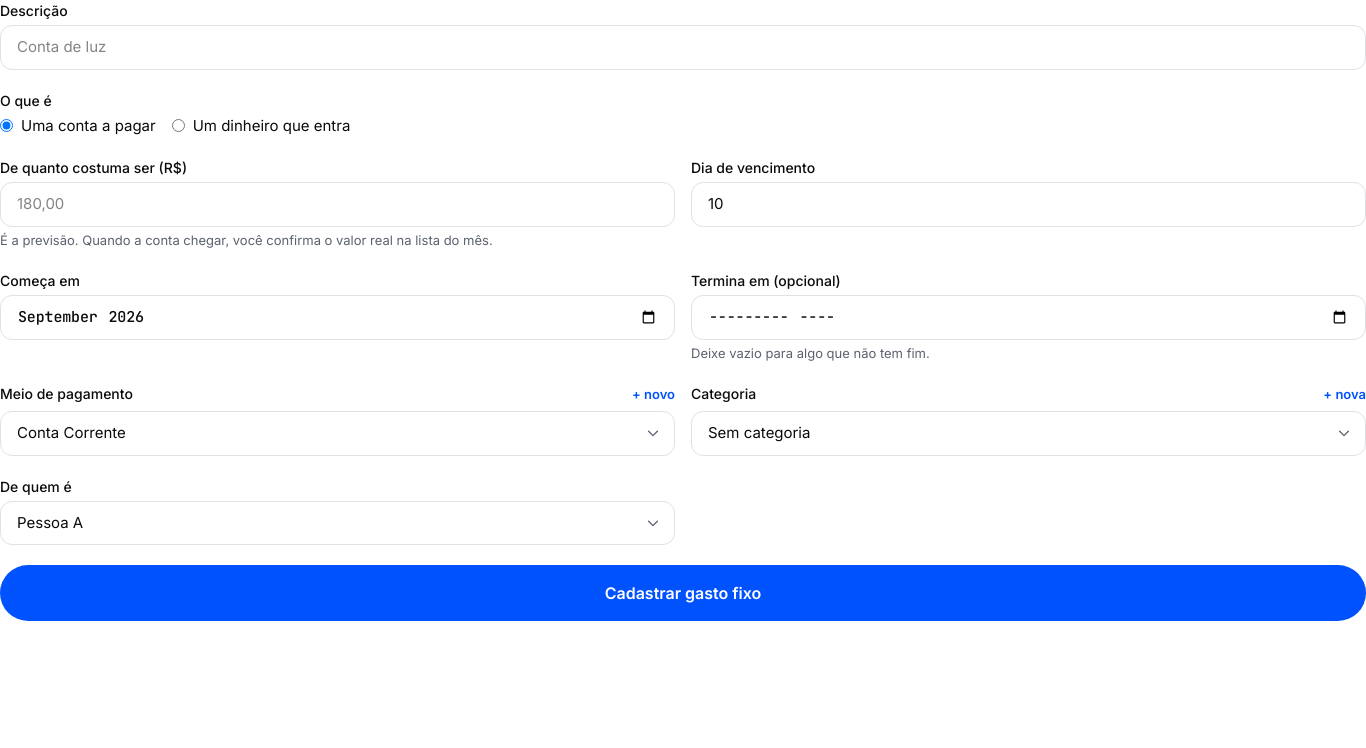
Test: formulário de gasto fixo › dá para cadastrar categoria sem sair do formulário
This screenshot has width=1366, height=748.
Click the button "+ nova".
click(1345, 395)  # box [1323,383,1365,407]
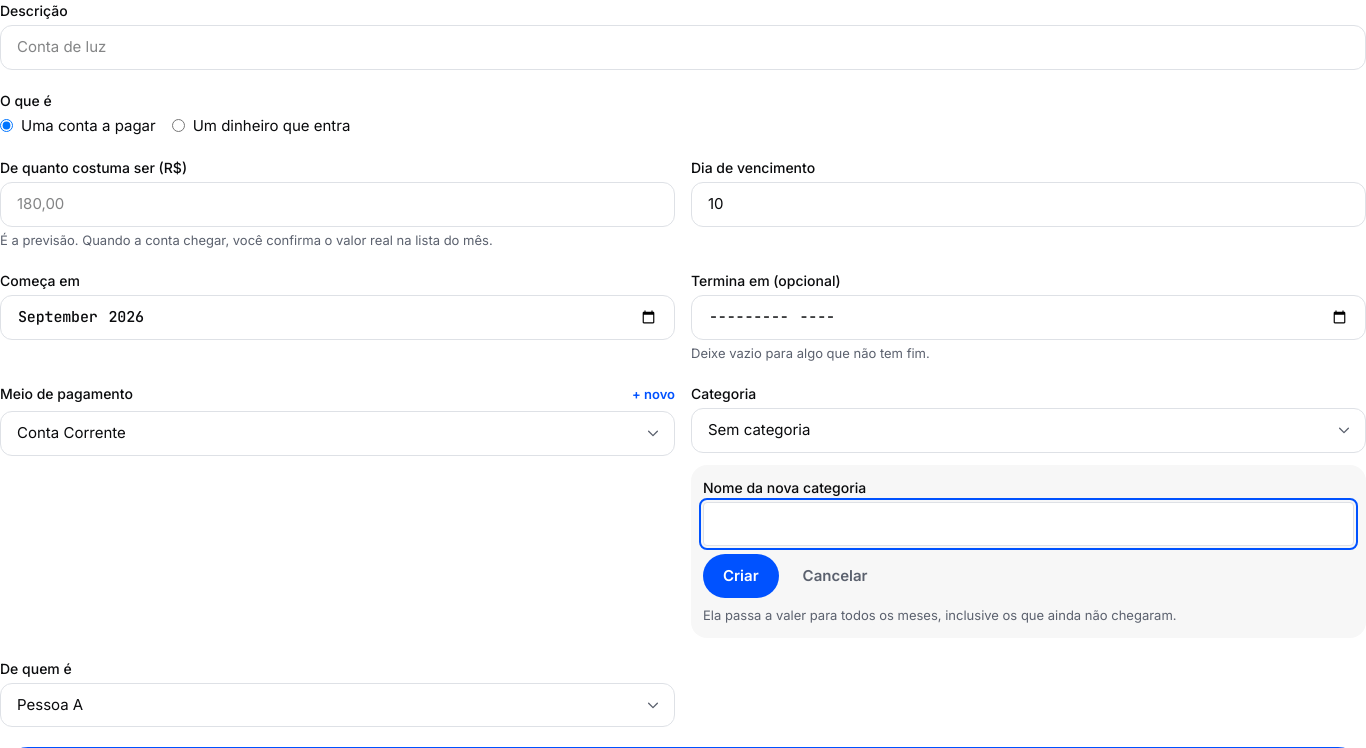
Now the field labelled "Nome da nova categoria" is shown, box [703,502,1354,546]
